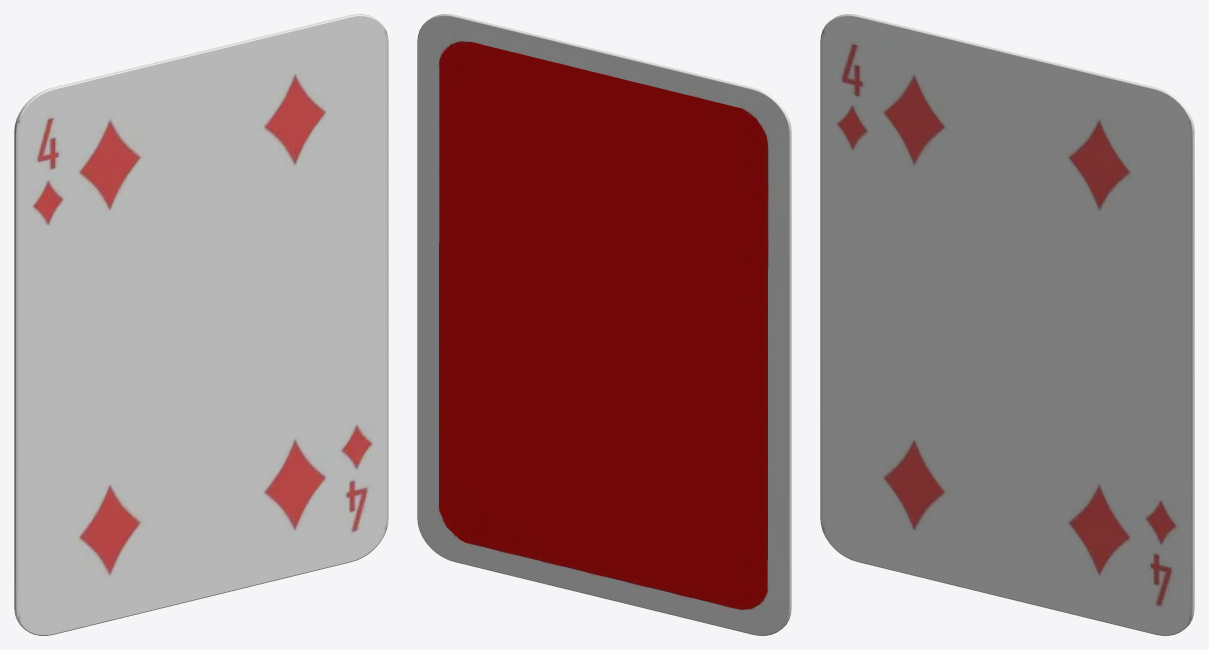
The model's file is diamonds_4.glb.
3 renders of one model, left to right at view 1: azimuth 30°, elevation 25°; view 2: azimuth 150°, elevation 25°; view 3: azimuth 330°, elevation 25°, orthographic.
Parts seen in each view (by area): view 1: defaultMaterial.032; view 2: defaultMaterial.032; view 3: defaultMaterial.032.
Boxes of the visible parts, left/top/right/bottom form: defaultMaterial.032: left=14, top=14, right=388, bottom=635; defaultMaterial.032: left=417, top=14, right=791, bottom=635; defaultMaterial.032: left=820, top=14, right=1194, bottom=635.
Size of the model in its own units: 0.1408 by 0.1972 by 0.00111.
Materials: 1 (1 with a texture image).
